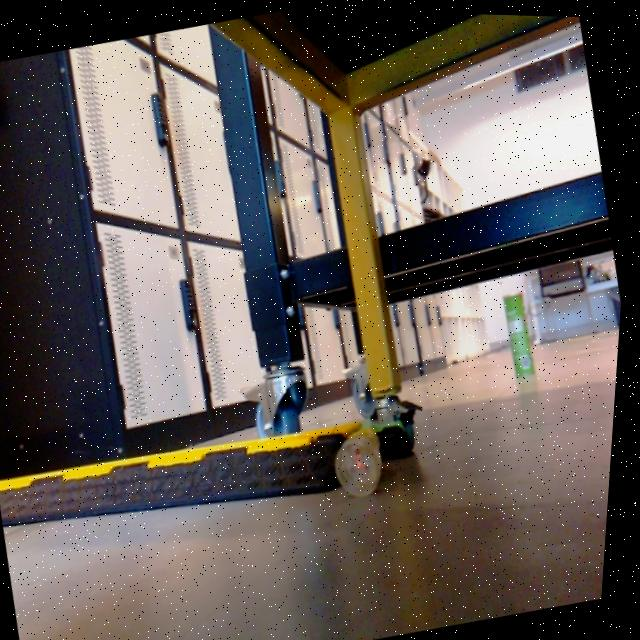greenpringles: (475, 265, 563, 401)
